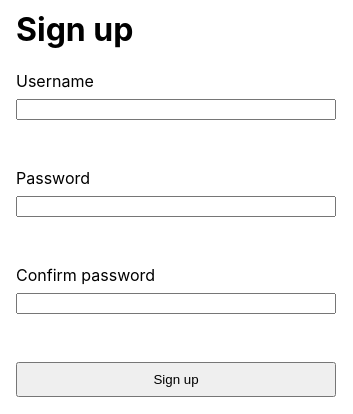
Test: SignUpPage › should show an error if password is not containing a special character
The image size is (353, 414).
Type "12345L" into the password field labelled "Password". click: (176, 206)
box: [16, 196, 336, 217]
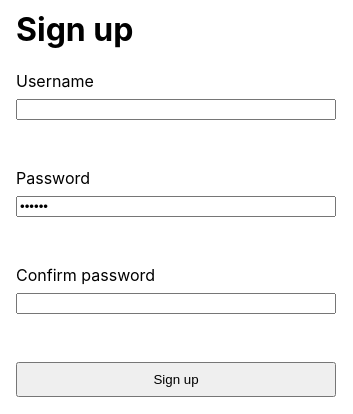
Click the button. click: (176, 379)
box: [16, 362, 336, 397]
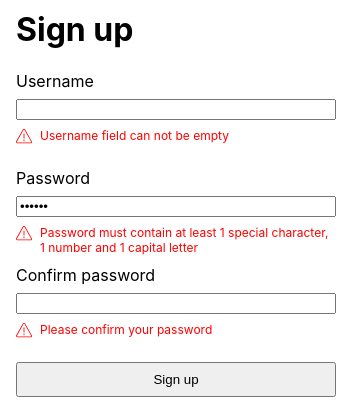
Expected: the text with test id "password-input-error" shows "Password must contain at least 1 special character, 1 number and 1 capital letter", [40, 225, 328, 255]
Type "12345L%" into the password field labelled "Password". click: (176, 206)
box: [16, 196, 336, 217]
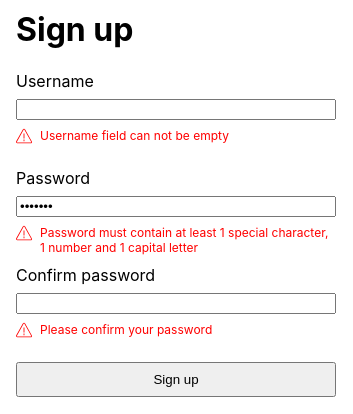
Click the button. click: (176, 379)
box: [16, 362, 336, 397]
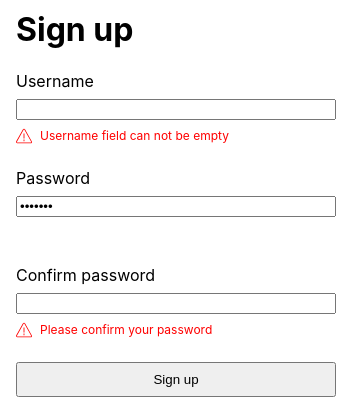
Expected: the text with test id "password-input-error" is gone
